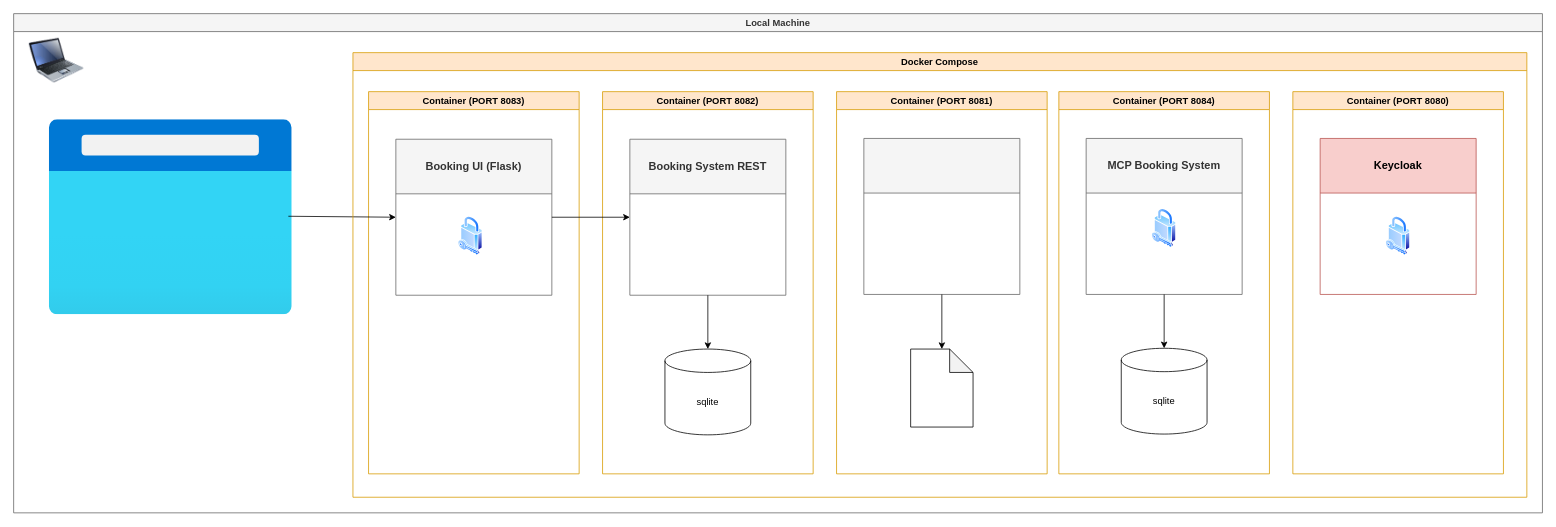
Some shapes in this 1556 by 527 pixel diagram are drawn without their labels. Here are the shapes that lost their labels. From the top down, the centre of each, then its label:
point (170, 216): Browser
point (941, 216): HR Database REST
point (941, 387): Markdown file
